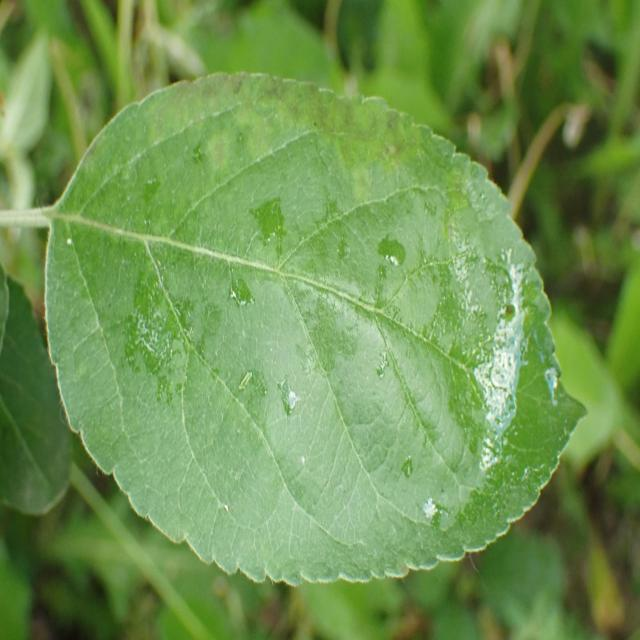scab: (104, 47, 522, 282)
